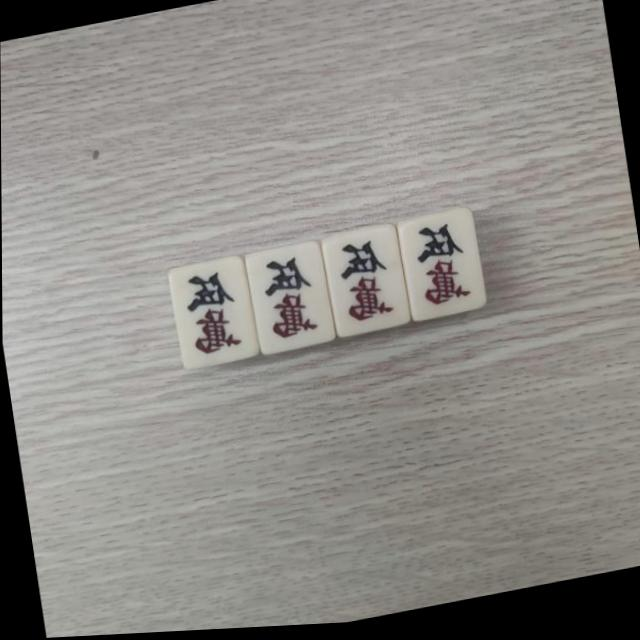sc5: (175, 264, 250, 367), (405, 216, 480, 318), (252, 249, 326, 351), (328, 234, 401, 334)
